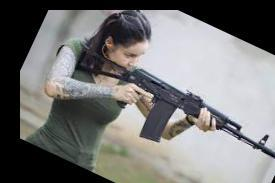larga: (74, 46, 275, 159)
